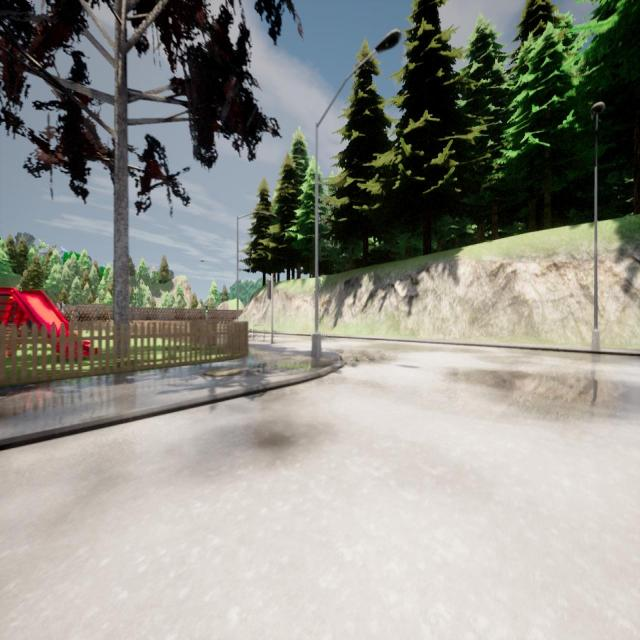traffic_light: (267, 280, 271, 300), (205, 306, 208, 313)
